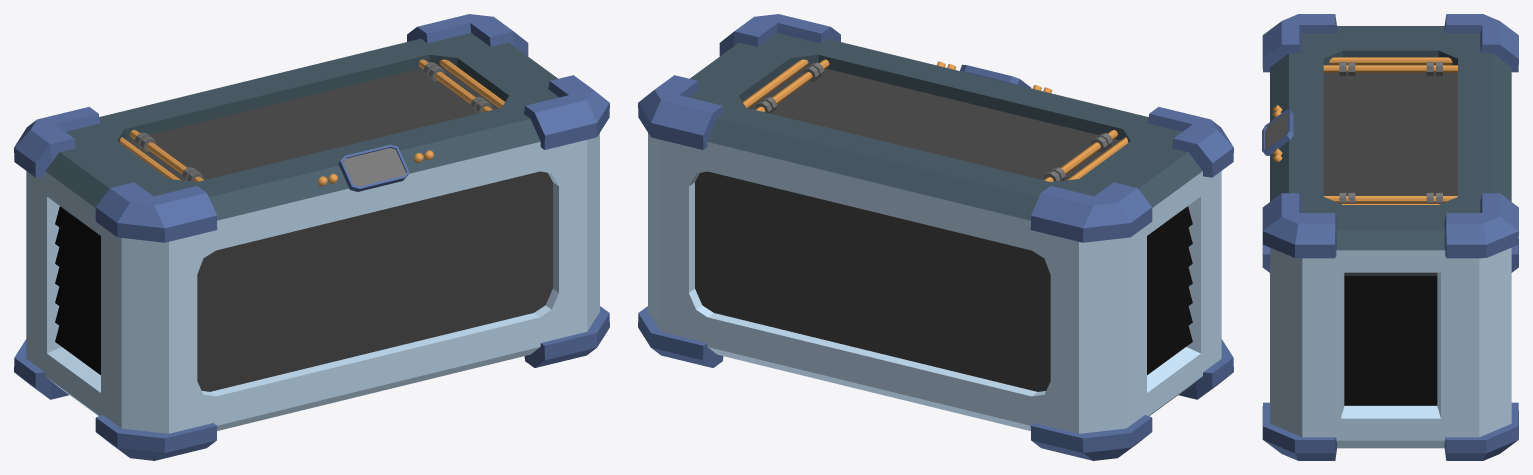
Rendered from Caixa.fbx.
3 renders of one model, left to right at view 1: azimuth 30°, elevation 25°; view 2: azimuth 150°, elevation 25°; view 3: azimuth 270°, elevation 25°, orthographic. The views are drawn at different scales.
Parts seen in each view (by area): view 1: Caixa; view 2: Caixa; view 3: Caixa.
Part boxes in pixels (x1,y1,x2,y2): Caixa: (14, 14, 609, 460); Caixa: (638, 14, 1233, 460); Caixa: (1262, 14, 1518, 460).
Size of the model in its own units: 160 by 79.36 by 77.87.
